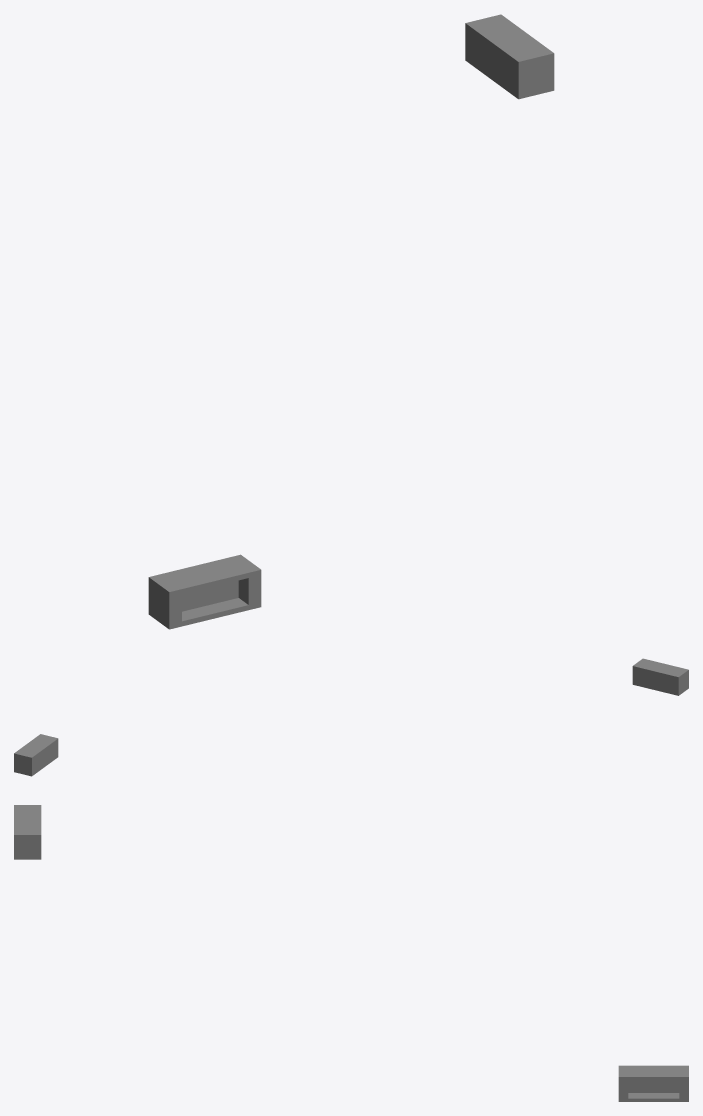
File: egout.gltf
The picture shows the model from 3 angles, top to bottom: view 1: azimuth 30°, elevation 25°; view 2: azimuth 150°, elevation 25°; view 3: azimuth 270°, elevation 25°; orthographic projection. The views are drawn at different scales.
Visible parts, largest first — view 1: egout; view 2: egout; view 3: egout.
Part boxes in pixels (left/top/right/bottom): egout: left=148, top=14, right=554, bottom=629; egout: left=14, top=658, right=688, bottom=776; egout: left=14, top=805, right=688, bottom=1101.
Bounding box in the file's own units: 1.78 × 0.0756 × 1.87.
Materials: 1 (1 with a texture image).
